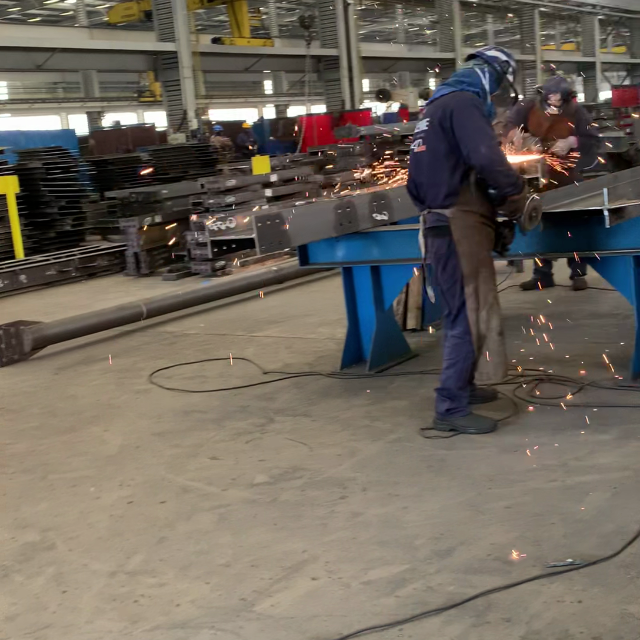face-shield: (487, 84, 539, 147)
glove: (520, 196, 543, 236)
helmet: (459, 48, 519, 79)
person: (405, 48, 545, 435)
safety-shoe: (428, 409, 501, 437), (470, 382, 509, 402)
